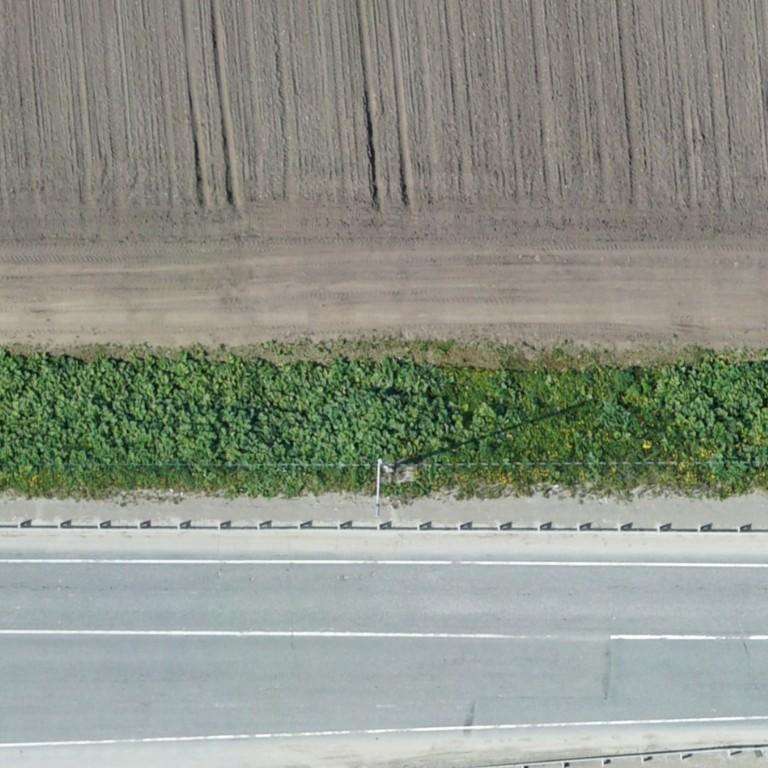hogweed: (0, 349, 450, 478), (594, 354, 767, 481)
